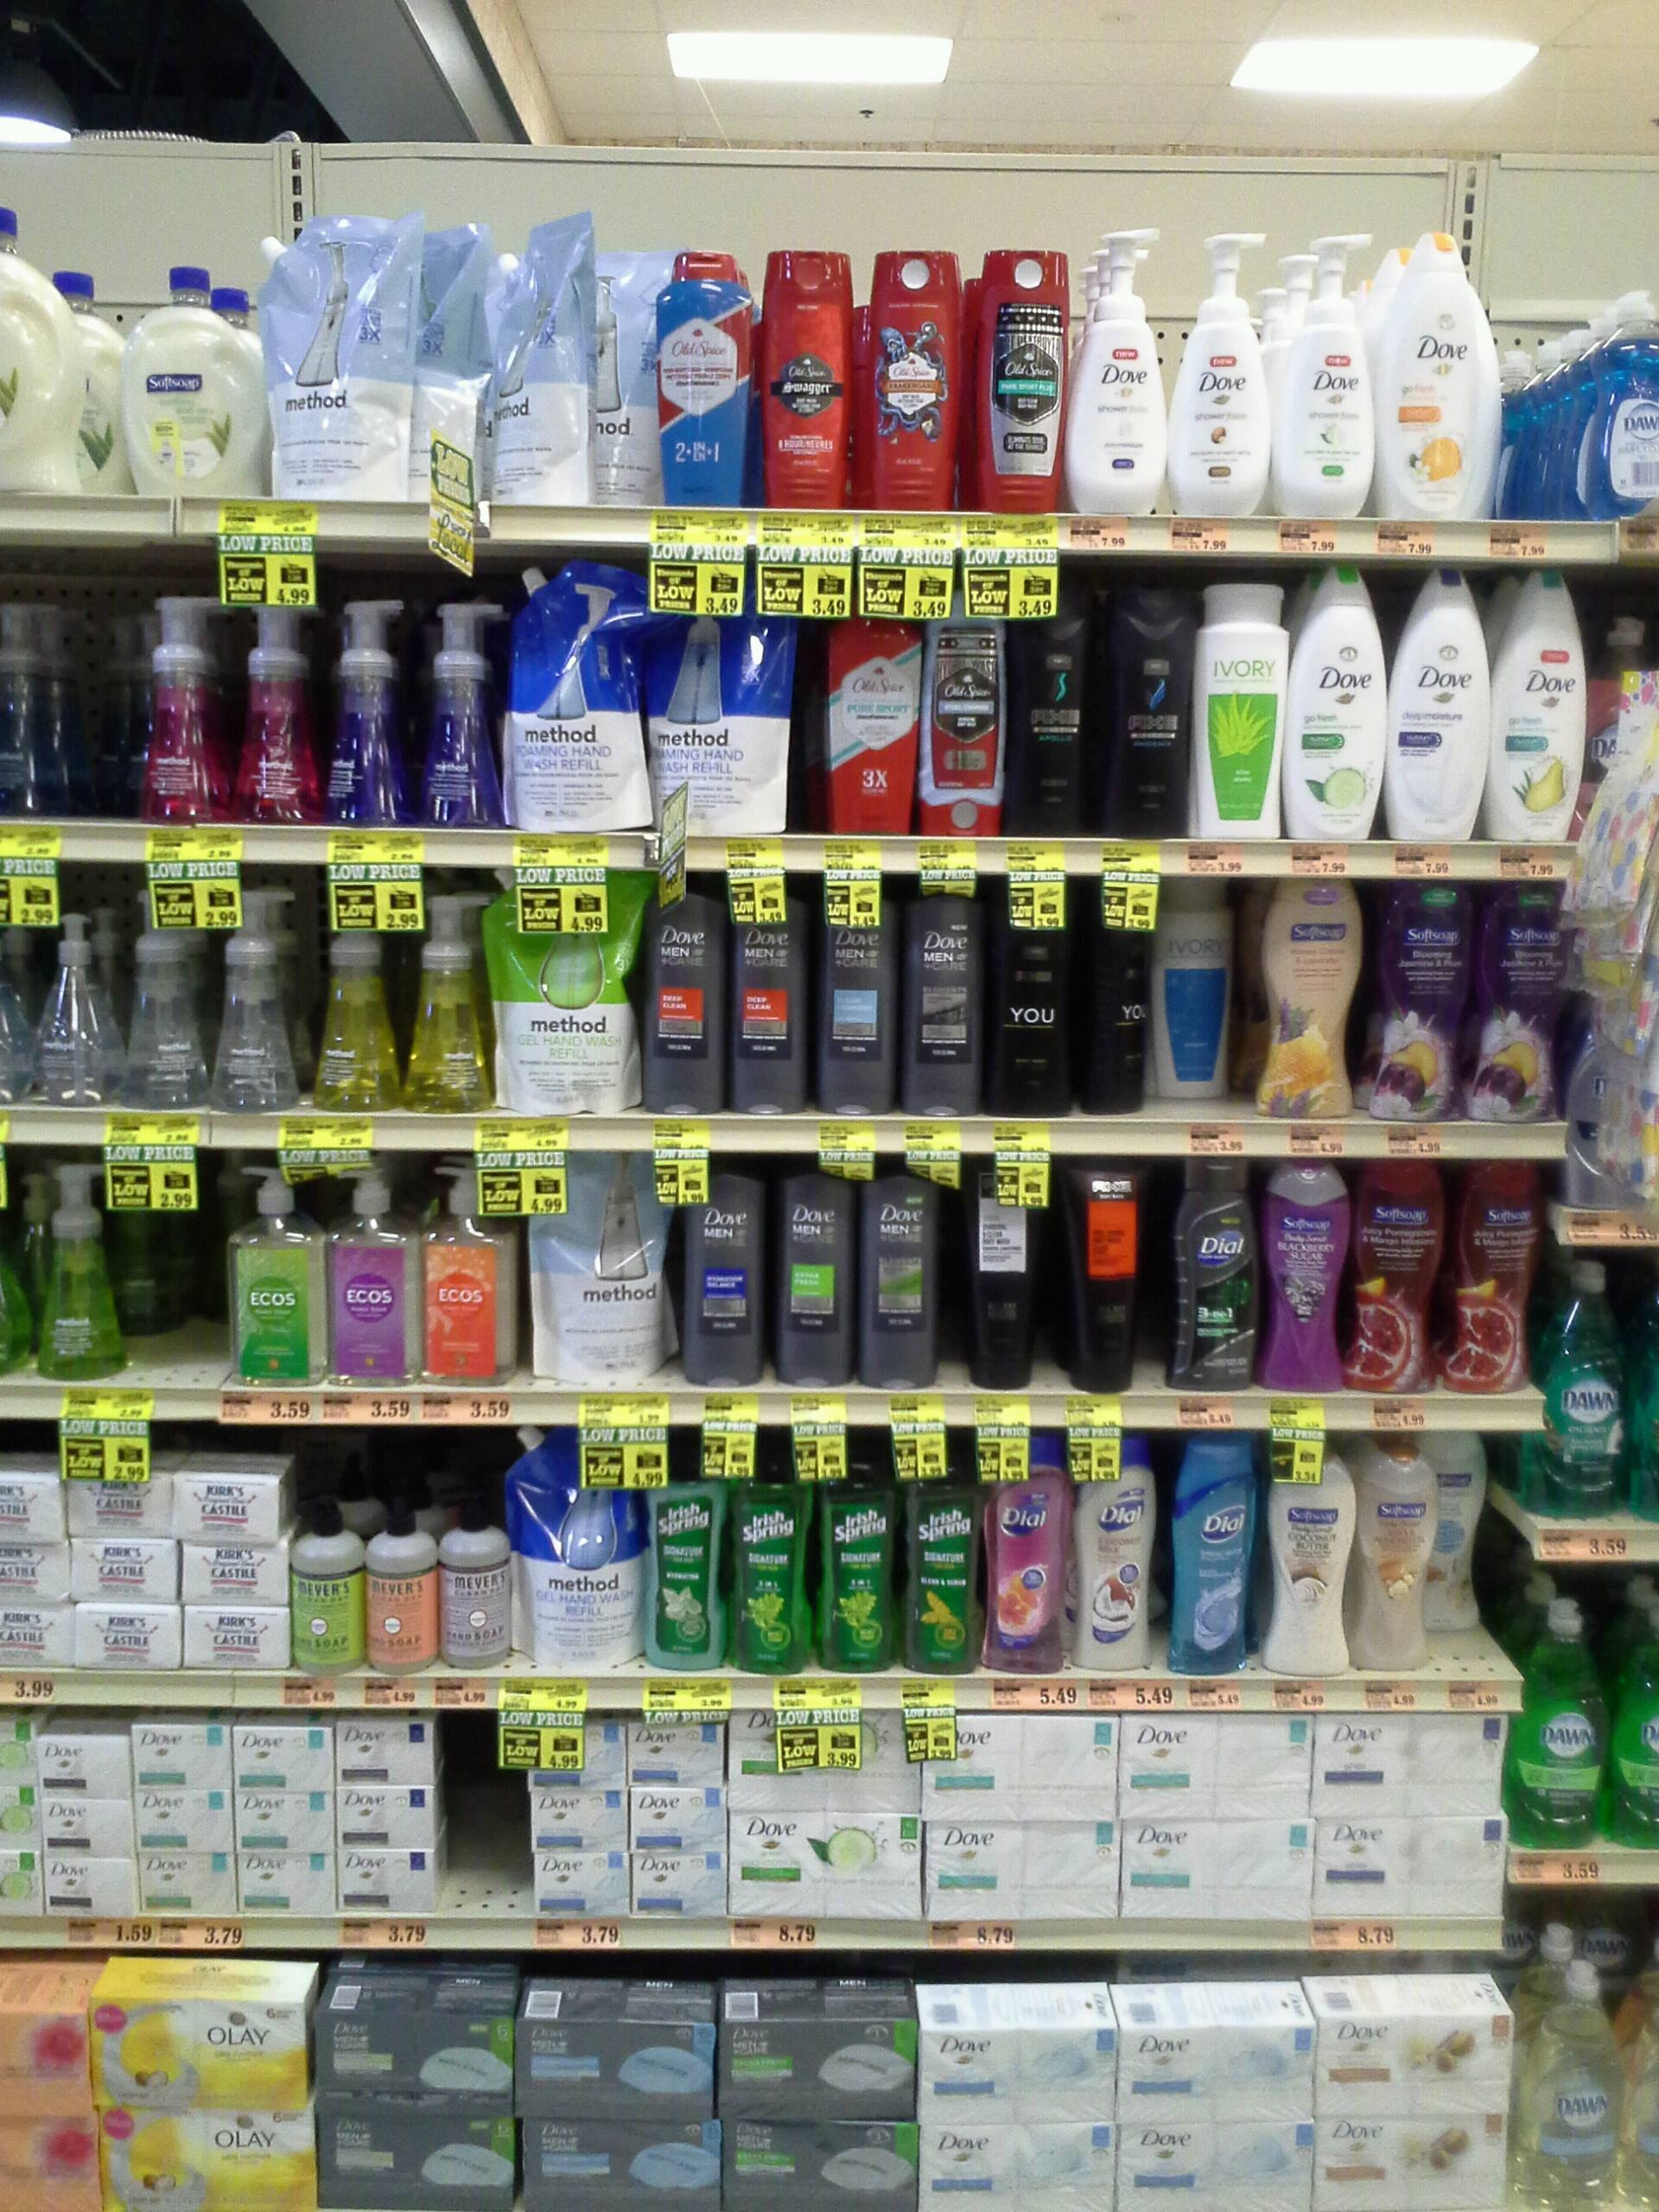Misplacement: (1148, 880, 1265, 1122)
Out-of-stock: (439, 1768, 533, 1914)
